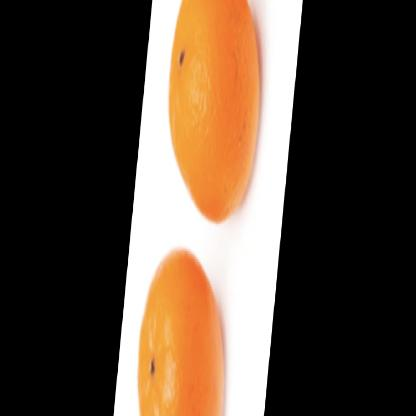fresh: (138, 1, 265, 416)
